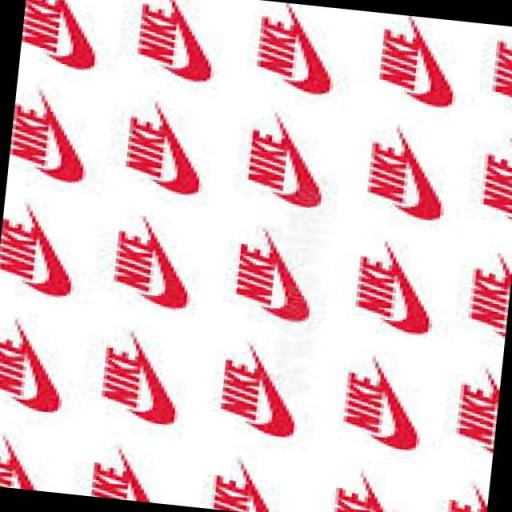Nike: (261, 112, 336, 210), (232, 242, 280, 307)
